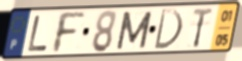8: (91, 9, 118, 54)
D: (152, 8, 185, 51)
F: (51, 11, 87, 55)
L: (26, 14, 50, 53)
M: (114, 10, 155, 51)
T: (191, 6, 215, 50)
